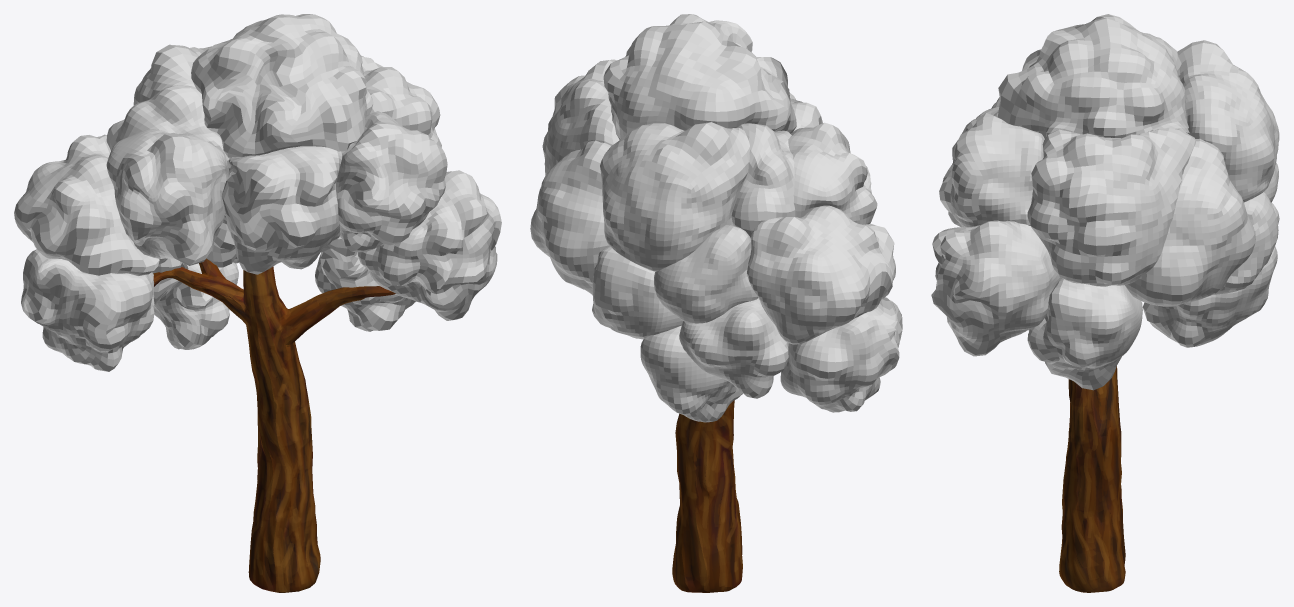
File: BossRoomTree.fbx
3 views of the same model, side by side, from view 1: azimuth 30°, elevation 25°; view 2: azimuth 150°, elevation 25°; view 3: azimuth 270°, elevation 25° (orthographic).
Parts seen in each view (by area): view 1: BossRoomTree_Foliage, BossRoomTree; view 2: BossRoomTree_Foliage, BossRoomTree; view 3: BossRoomTree_Foliage, BossRoomTree.
Part boxes in pixels (box(x1,y1,x2,y2)): BossRoomTree_Foliage: box(14, 14, 501, 371); BossRoomTree: box(153, 258, 395, 592); BossRoomTree_Foliage: box(530, 14, 902, 422); BossRoomTree: box(672, 400, 742, 592); BossRoomTree_Foliage: box(931, 14, 1279, 390); BossRoomTree: box(1059, 366, 1125, 592).
Size of the model in its own units: 1631 by 2282 by 1276.
Materials: 1 (1 with a texture image).
